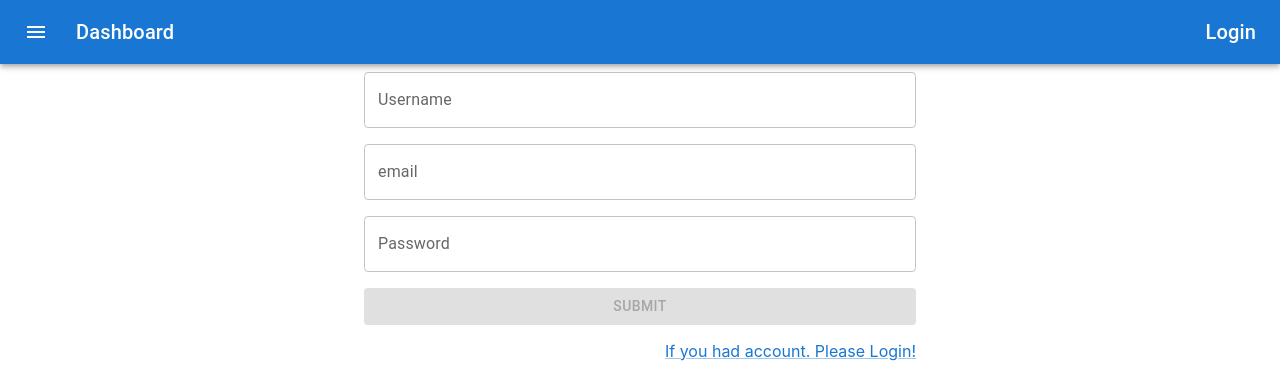
Test: Register spec › Enable Register
This screenshot has width=1280, height=378.
Type "admin" into the field with id "username". click: [640, 100]
box: 364,72 -> 916,128
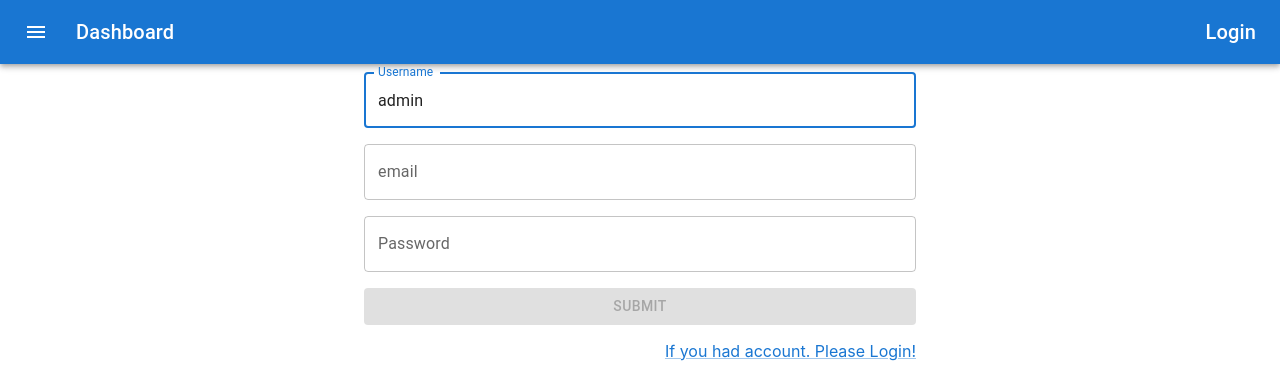
Type "admin123@gmail.com" into the field with id "email". click: [640, 172]
box: 364,144 -> 916,200
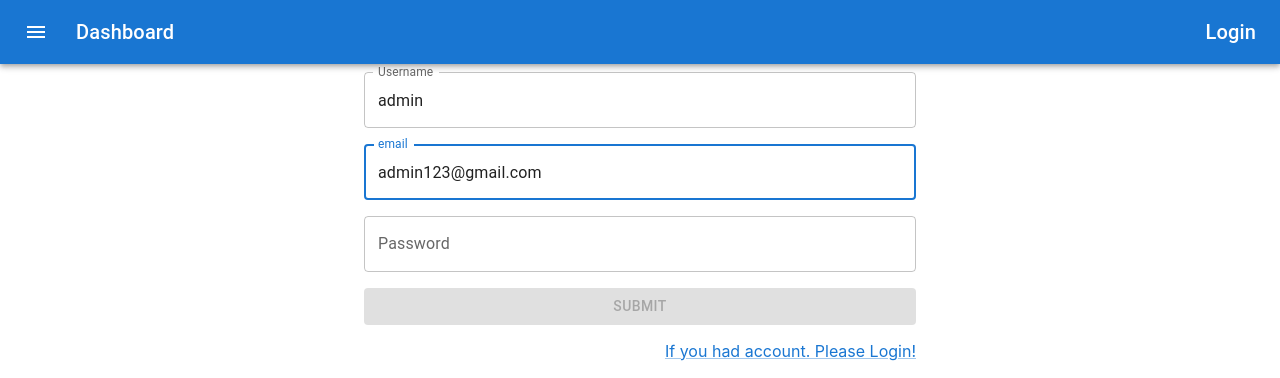
Type "admin123" into the password field labelled "Password". click: [640, 244]
box: 364,216 -> 916,272
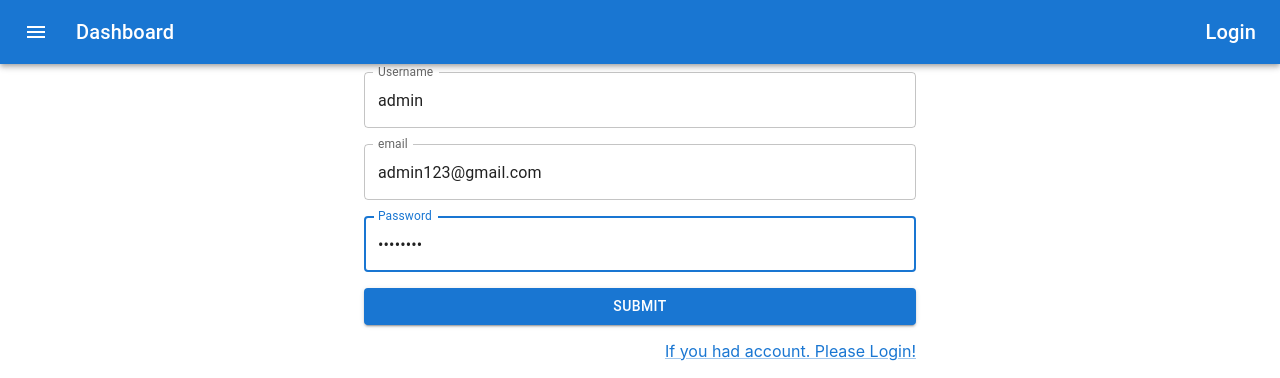
Expected: the button with id "register" is enabled, 364,288 -> 916,325
